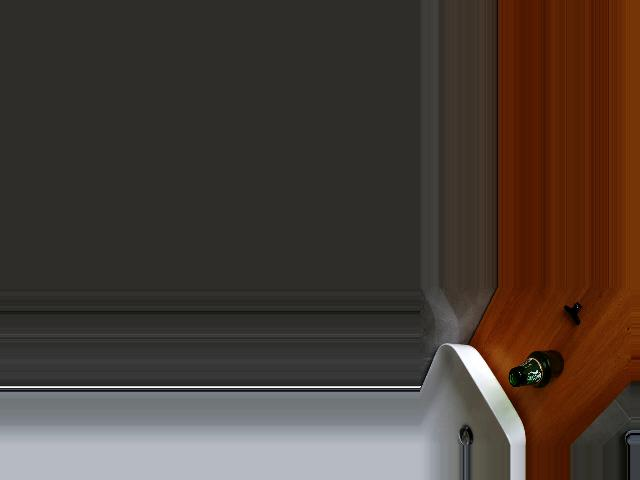beer: (509, 351, 564, 387)
